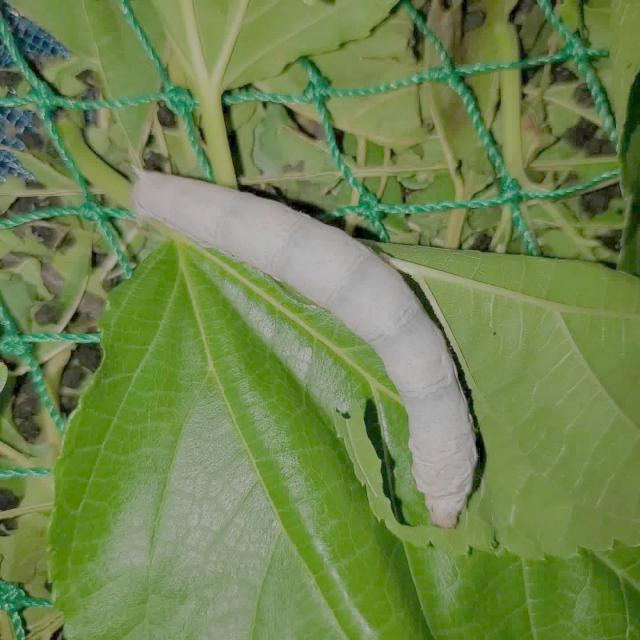Healthy: (94, 140, 506, 541)
